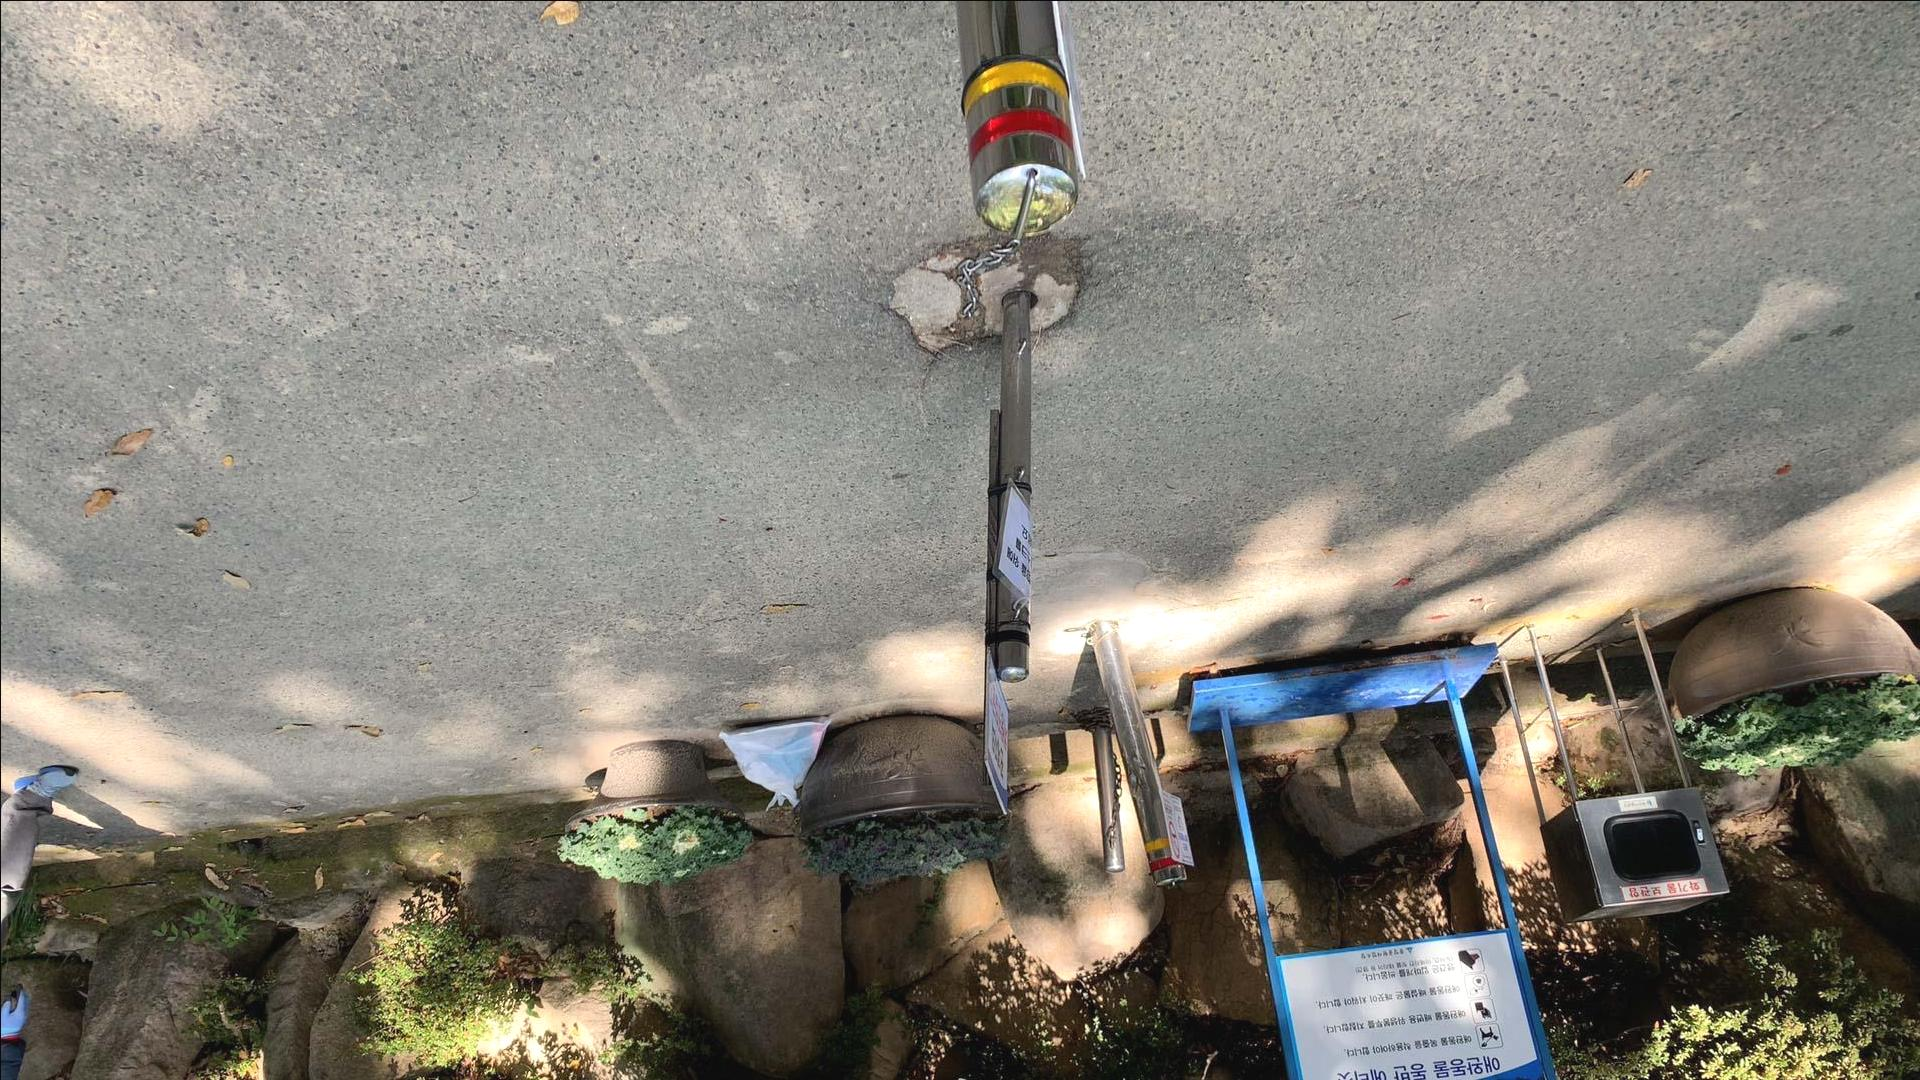white_bag: (713, 713, 835, 814)
